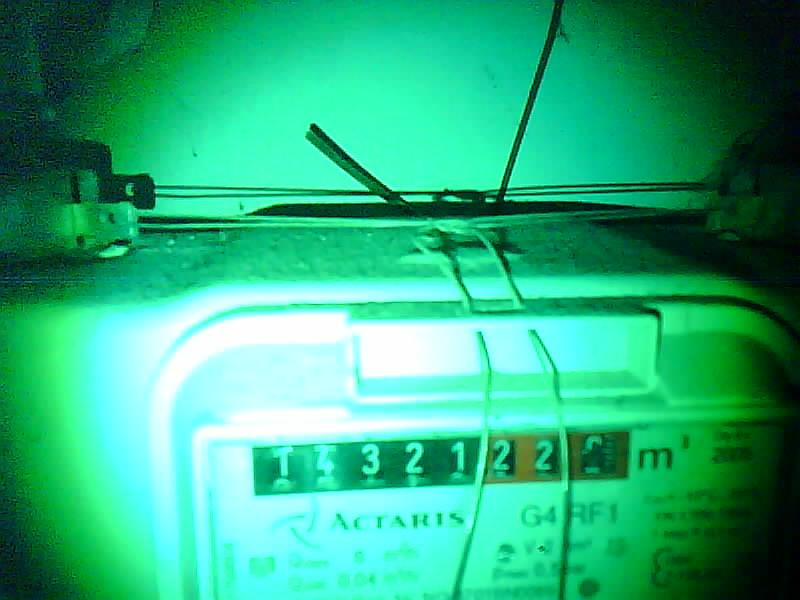nums: (252, 429, 635, 494)
